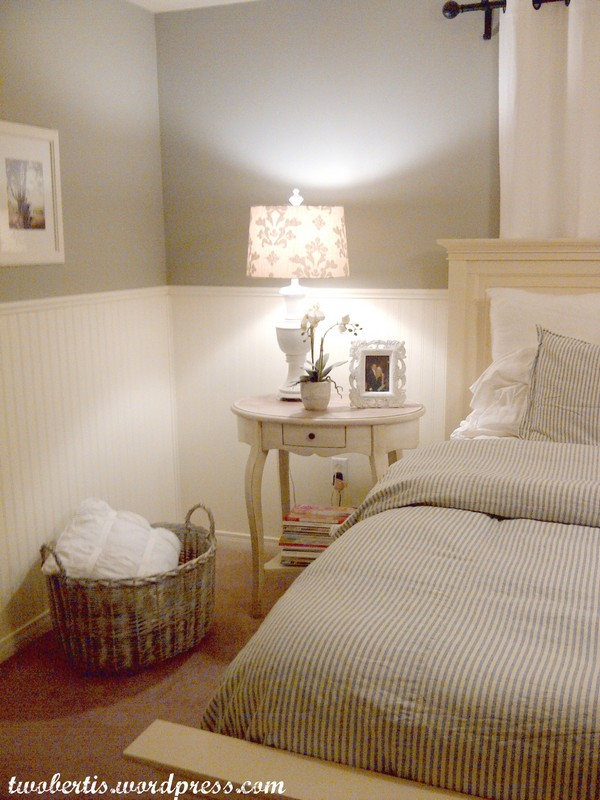bed: (122, 223, 600, 798)
lamp: (242, 193, 358, 406)
stool: (230, 398, 415, 608)
